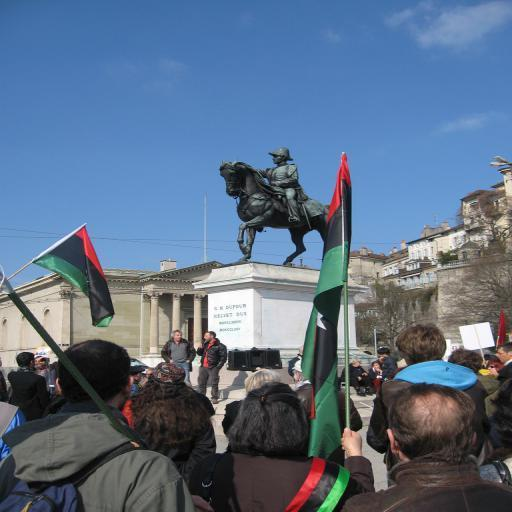horse: (220, 154, 340, 266)
